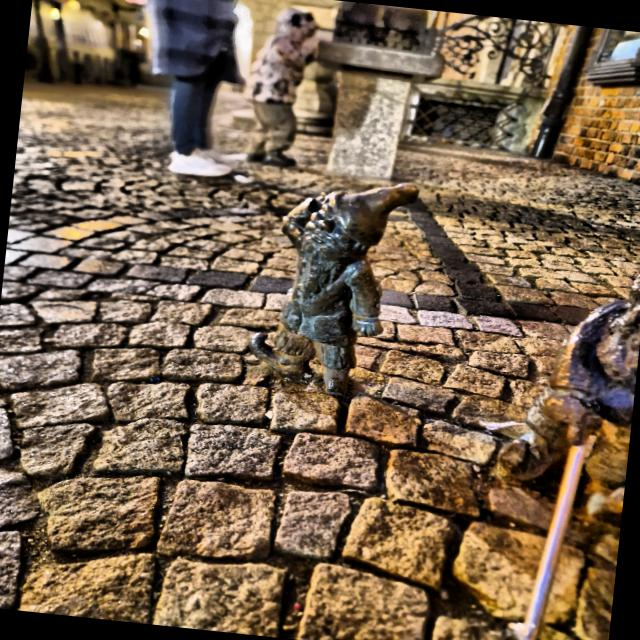Gluchak: (249, 183, 418, 396)
